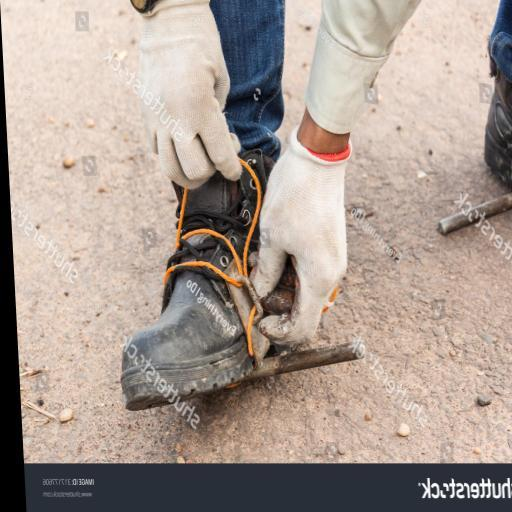safety_boots: (112, 256, 250, 425)
